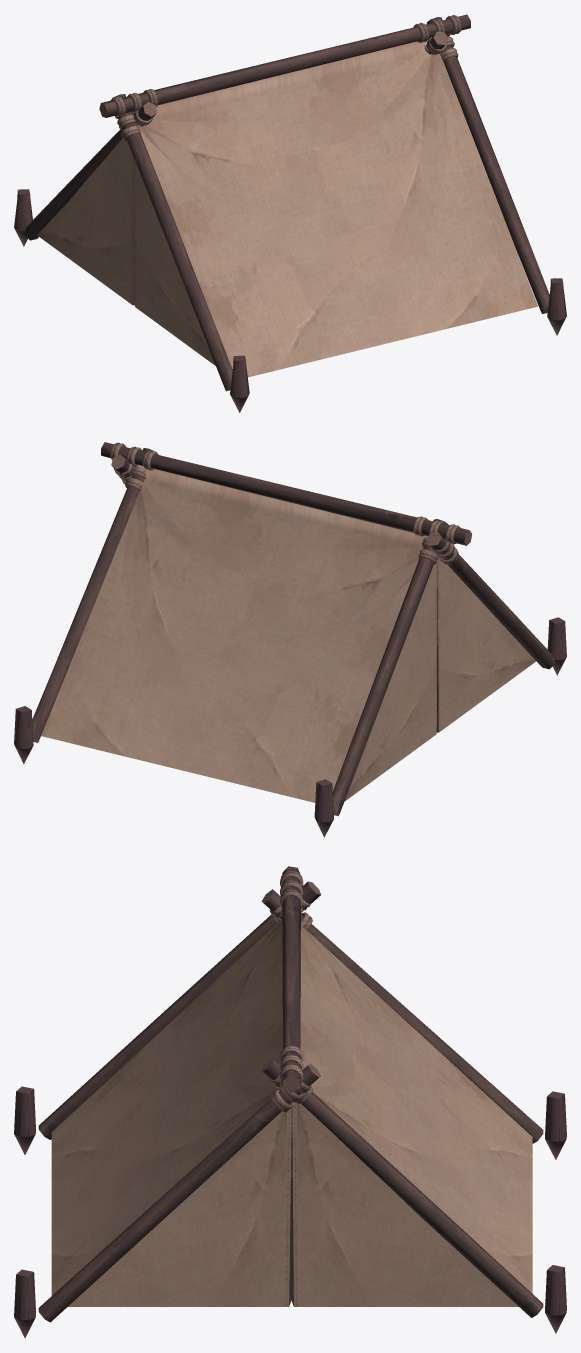
The model's file is Tent_mini.FBX.
3 renders of one model, top to bottom at view 1: azimuth 30°, elevation 25°; view 2: azimuth 150°, elevation 25°; view 3: azimuth 270°, elevation 25°, orthographic. The views are drawn at different scales.
Parts seen in each view (by area): view 1: Box051, Cylinder030; view 2: Box051, Cylinder030; view 3: Box051, Cylinder030.
Boxes of the visible parts, x1,y1,x2,y2 form: Box051: (14, 40, 566, 412); Cylinder030: (24, 14, 549, 391); Box051: (14, 465, 566, 837); Cylinder030: (32, 442, 555, 816); Box051: (14, 920, 566, 1338); Cylinder030: (38, 866, 543, 1322).
Size of the model in its own units: 6.01 by 3.71 by 6.69.
Materials: 2 (2 with a texture image).
